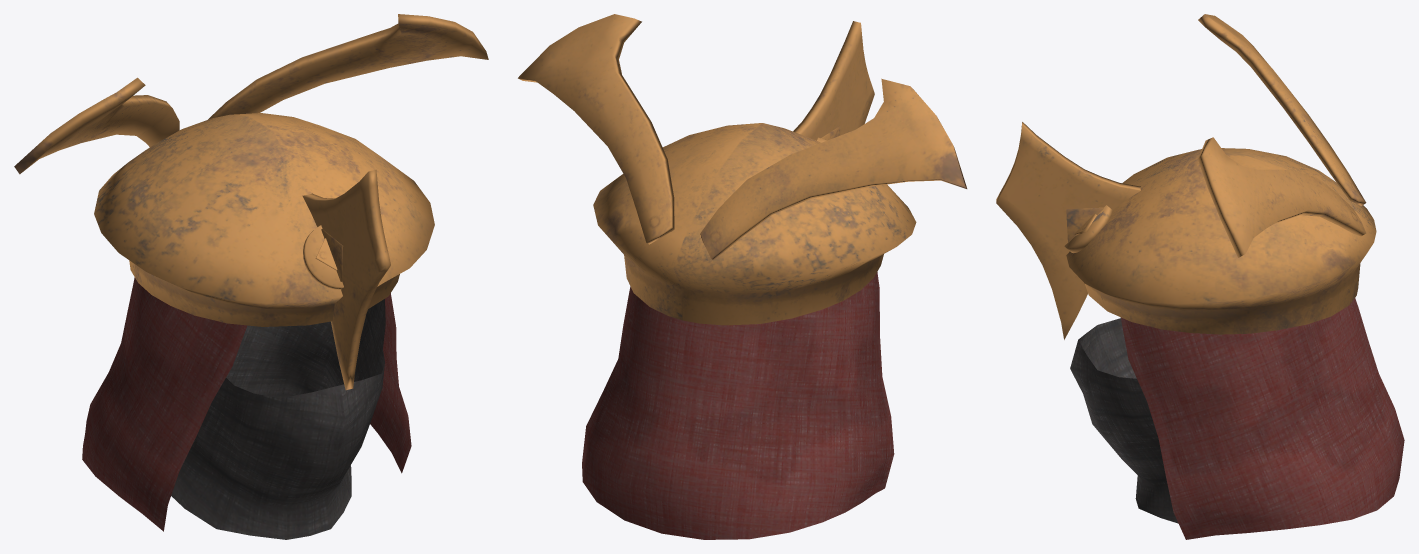
The model's file is easterlingwarriors02_helmet.fbx.
3 renders of one model, left to right at view 1: azimuth 30°, elevation 25°; view 2: azimuth 150°, elevation 25°; view 3: azimuth 270°, elevation 25°, orthographic. The views are drawn at different scales.
Visible parts, largest first — view 1: easterlingwarriors02_helmet; view 2: easterlingwarriors02_helmet; view 3: easterlingwarriors02_helmet.
Part boxes in pixels (box(x1,y1,x2,y2)): easterlingwarriors02_helmet: box(14, 14, 488, 539); easterlingwarriors02_helmet: box(518, 14, 967, 539); easterlingwarriors02_helmet: box(996, 14, 1404, 539).
Size of the model in its own units: 0.456 by 0.3733 by 0.4236.
Materials: 1 (1 with a texture image).
